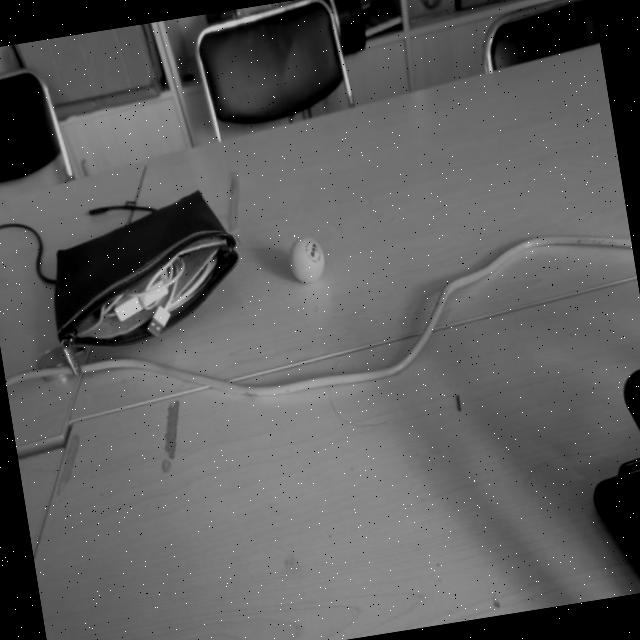ping-pong-ball: (286, 234, 328, 287)
